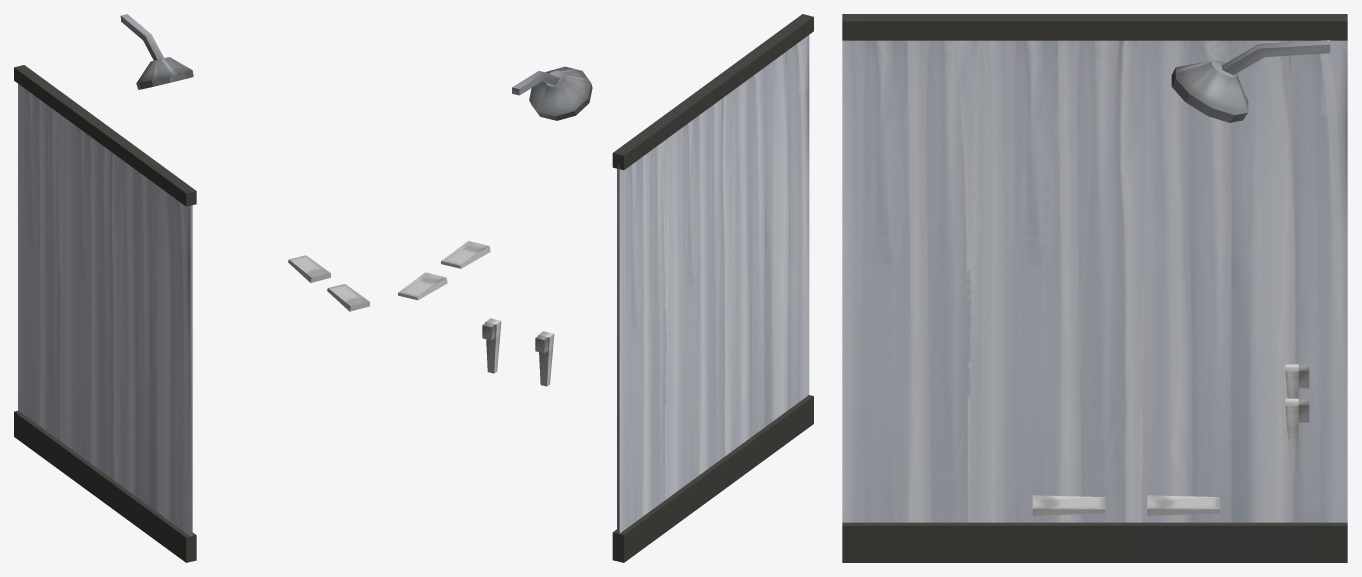
Rendered from duchas.FBX.
3 renders of one model, left to right at view 1: azimuth 30°, elevation 25°; view 2: azimuth 150°, elevation 25°; view 3: azimuth 270°, elevation 25°, orthographic. The views are drawn at different scales.
Visible parts, largest first — view 1: Box053, Box048, Box049, Cylinder001, Box052, Box051, Box043; view 2: Box053, Box048, Box049, Cylinder001, Box052, Box051, Box044, Box046, Box043; view 3: Box053, Box048, Box049, Cylinder001, Box043, Box051, Box052, Box044.
Boxes of the visible parts, left/top/right/bottom form: Box053: left=18, top=84, right=192, bottom=536; Box048: left=14, top=410, right=196, bottom=562; Box049: left=14, top=65, right=196, bottom=206; Cylinder001: left=136, top=57, right=193, bottom=89; Box052: left=288, top=255, right=330, bottom=282; Box051: left=327, top=284, right=369, bottom=311; Box043: left=120, top=14, right=163, bottom=60; Box053: left=617, top=35, right=809, bottom=533; Box048: left=612, top=395, right=813, bottom=562; Box049: left=612, top=14, right=813, bottom=170; Cylinder001: left=529, top=66, right=592, bottom=120; Box052: left=398, top=272, right=447, bottom=300; Box051: left=441, top=241, right=490, bottom=268; Box044: left=485, top=318, right=501, bottom=373; Box046: left=538, top=331, right=554, bottom=386; Box043: left=512, top=71, right=559, bottom=95; Box053: left=842, top=40, right=1347, bottom=522; Box048: left=842, top=522, right=1347, bottom=562; Box049: left=842, top=14, right=1347, bottom=40; Cylinder001: left=1171, top=60, right=1248, bottom=122; Box043: left=1222, top=40, right=1330, bottom=75; Box051: left=1032, top=495, right=1105, bottom=515; Box052: left=1147, top=495, right=1219, bottom=515; Box044: left=1285, top=398, right=1298, bottom=470.
Size of the model in its own units: 31.53 by 48.6 by 37.87.
